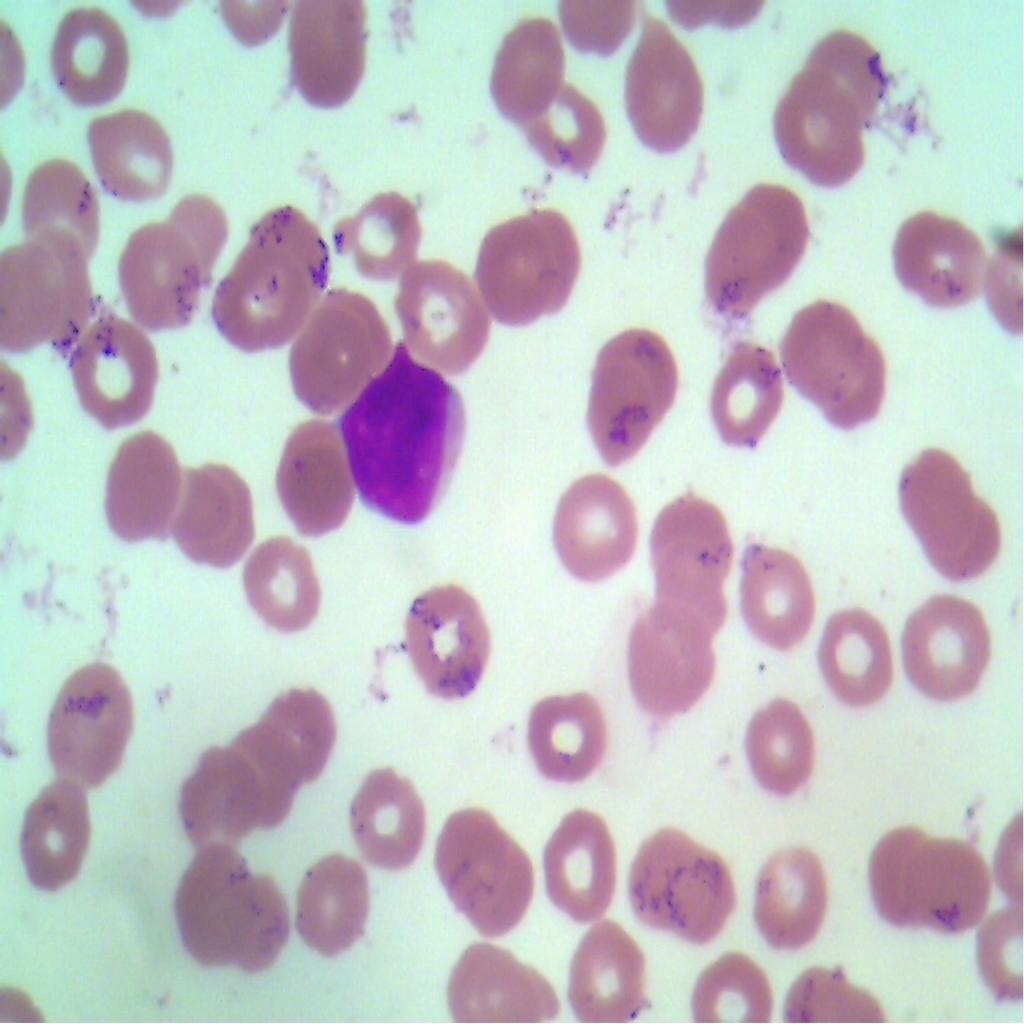Eritrosit: (686, 180, 813, 324), (780, 290, 898, 441), (35, 655, 143, 798), (630, 805, 733, 954), (582, 321, 688, 459), (630, 810, 740, 940), (478, 204, 586, 335), (618, 15, 708, 167), (436, 808, 539, 931), (775, 68, 875, 194), (402, 574, 498, 704), (386, 255, 492, 372), (898, 588, 1002, 707), (551, 904, 653, 1023), (901, 450, 998, 575), (546, 464, 640, 588), (615, 595, 711, 715), (66, 307, 162, 425), (275, 412, 362, 541), (236, 532, 329, 651), (159, 744, 259, 854), (208, 230, 298, 352), (78, 98, 176, 210), (288, 287, 386, 398), (706, 328, 786, 458), (736, 539, 824, 657), (891, 207, 984, 318), (339, 171, 424, 291), (26, 222, 104, 352), (516, 84, 613, 188), (746, 837, 838, 945), (811, 596, 898, 710), (158, 464, 256, 565), (20, 150, 106, 264), (251, 672, 335, 788), (16, 767, 90, 897), (542, 804, 622, 924), (734, 685, 818, 798), (909, 835, 996, 944), (524, 681, 613, 787), (37, 0, 130, 101), (286, 847, 369, 958), (795, 15, 879, 124), (106, 425, 182, 544), (121, 219, 198, 335), (338, 762, 422, 867), (283, 0, 371, 100), (431, 930, 521, 1023), (172, 842, 250, 948), (250, 207, 328, 308), (654, 538, 732, 639), (646, 484, 728, 578), (490, 14, 566, 112), (231, 725, 298, 832), (218, 877, 293, 972), (0, 248, 59, 367), (156, 191, 228, 287), (686, 944, 773, 1023), (871, 824, 935, 927)
Limfoblast: (329, 344, 468, 531)
